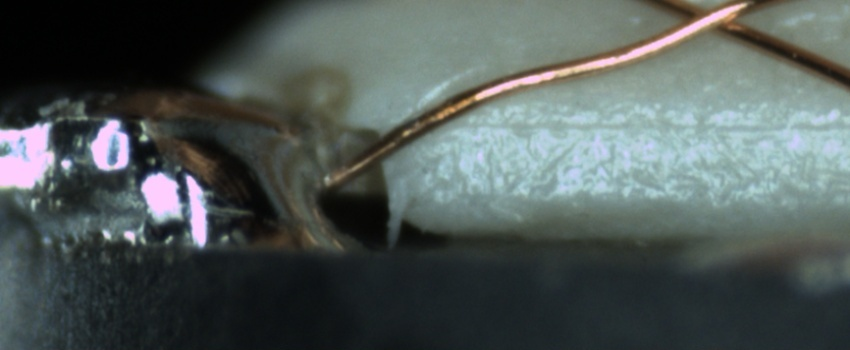CL: (653, 0, 761, 41)
DL: (447, 97, 850, 156)
